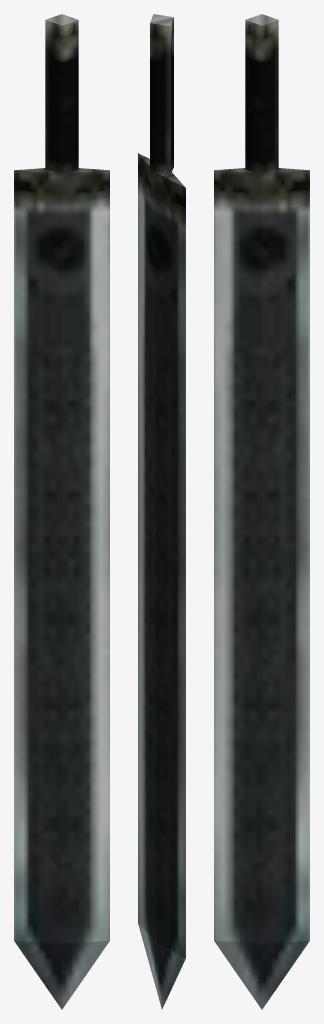
The model's file is Sword16.glb.
The picture shows the model from 3 angles, left to right: view 1: azimuth 90°, elevation 25°; view 2: azimuth 210°, elevation 25°; view 3: azimuth 270°, elevation 25°; orthographic projection.
Visible parts, largest first — view 1: model_Sword16; view 2: model_Sword16; view 3: model_Sword16.
Part boxes in pixels (x1,y1,x2,y2): model_Sword16: (14,14,109,1009); model_Sword16: (138,14,185,1009); model_Sword16: (214,14,309,1009).
Bounding box in the file's own units: 0.0496 × 1.95 × 0.1712.
1 material, 1 textured.
